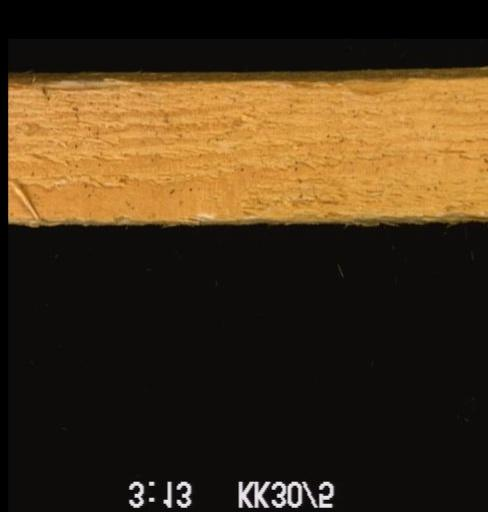wave: (251, 68, 429, 100), (12, 72, 128, 95)
